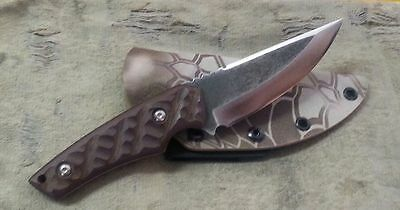knief: (21, 15, 370, 199)
